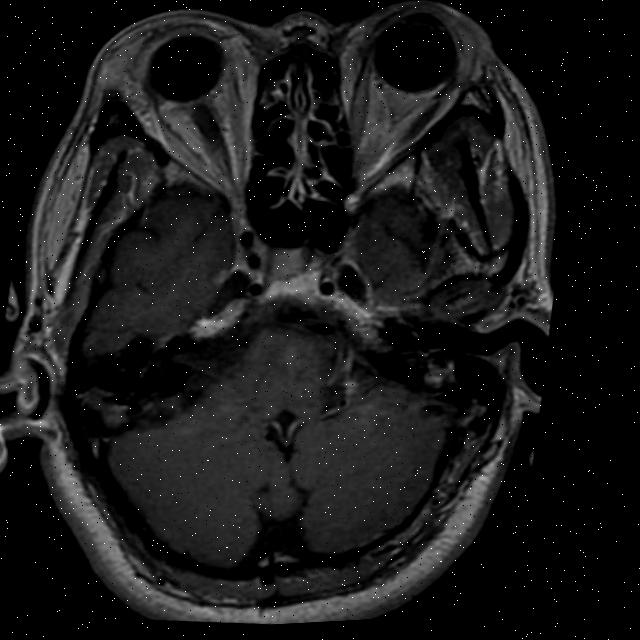Pituitary: (264, 241, 306, 280)
